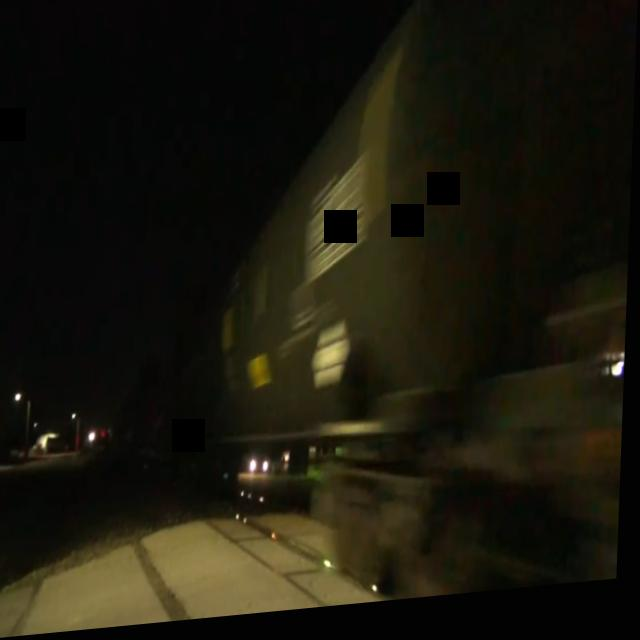tank: (157, 0, 623, 627)
